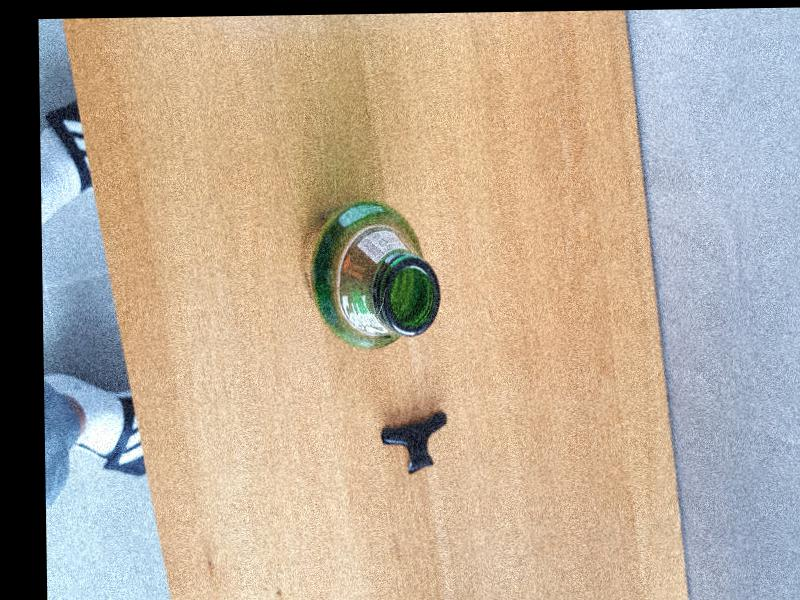Beer: (298, 200, 440, 354)
